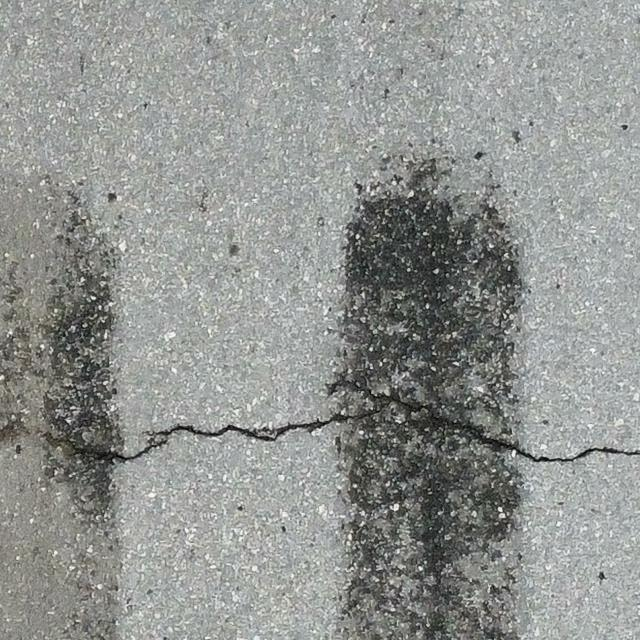TransverseCrack: (50, 376, 640, 464)
